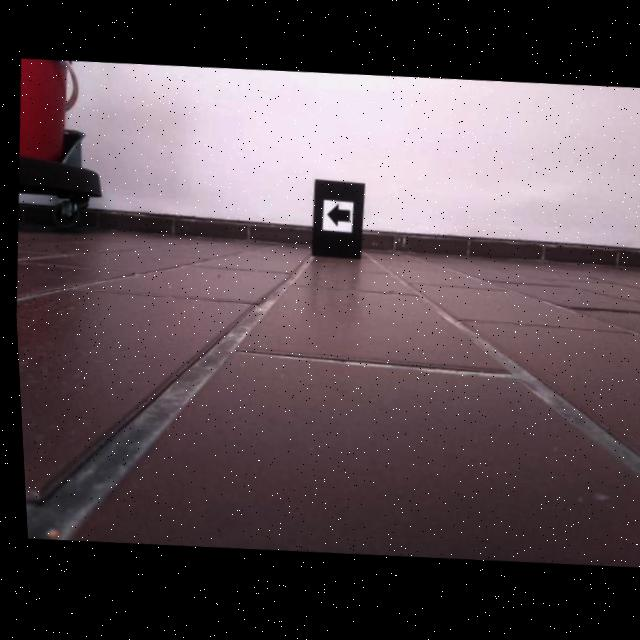LEFT: (323, 204, 348, 229)
